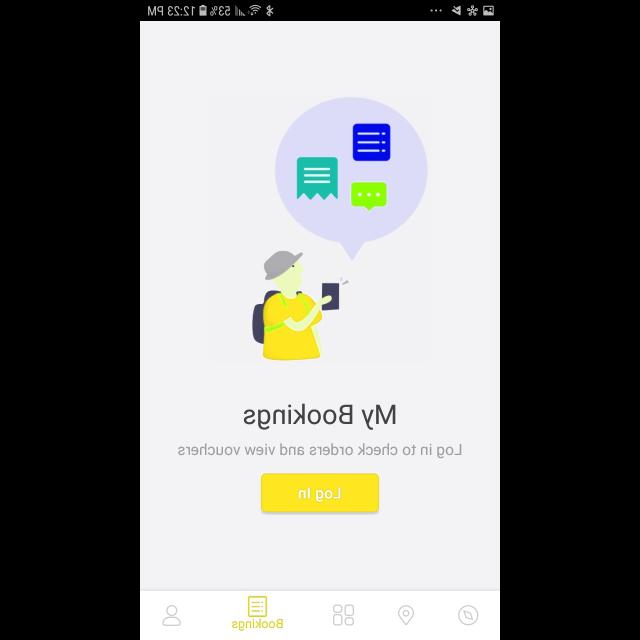icon: (332, 604, 353, 626), (162, 604, 182, 626), (458, 604, 478, 626), (248, 596, 266, 618), (398, 605, 414, 625)
image: (252, 97, 428, 361)
text: (178, 443, 462, 459), (243, 404, 395, 431), (232, 618, 282, 630)
textbutton: (261, 473, 379, 512)
uppertaskbar: (140, 1, 500, 22)
